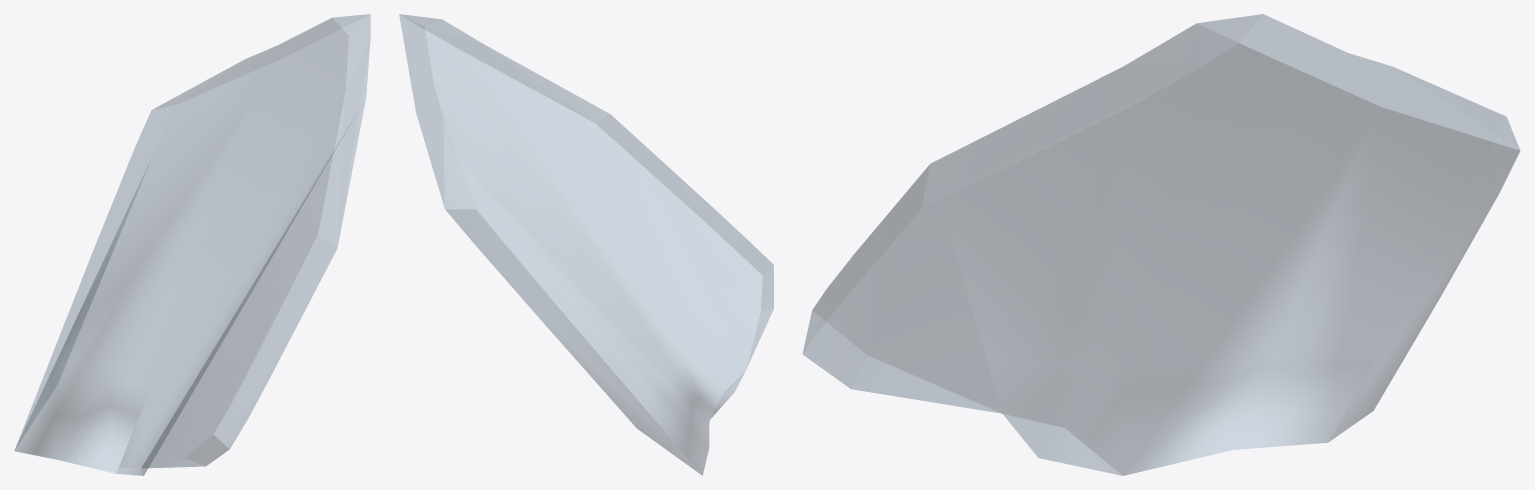
Rendered from piece8.obj.
The picture shows the model from 3 angles, left to right: view 1: azimuth 30°, elevation 25°; view 2: azimuth 150°, elevation 25°; view 3: azimuth 270°, elevation 25°; orthographic projection. The views are drawn at different scales.
Visible parts, largest first — view 1: 立方体.002_cell.045; view 2: 立方体.002_cell.045; view 3: 立方体.002_cell.045.
Boxes of the visible parts, bbox=[...] form: 立方体.002_cell.045: bbox=[14, 14, 370, 475]; 立方体.002_cell.045: bbox=[399, 14, 773, 475]; 立方体.002_cell.045: bbox=[802, 14, 1520, 475].
Size of the model in its own units: 0.0823 by 0.088 by 0.0808.
